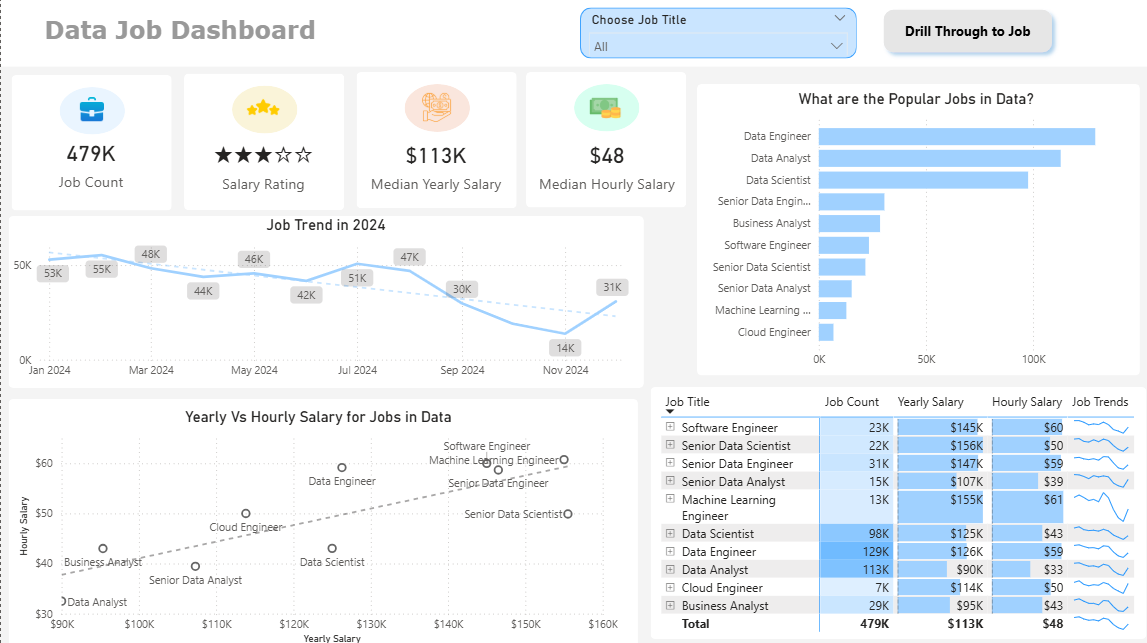

The page's visual inventory and layout, read from the dashboard file:
{"tool":"powerbi","page":{"name":"main dashboard","canvas":[1280,720],"ordinal":0},"visuals":[{"type":"shape","box":[0,0,1281,74.2],"z":0},{"type":"group","id":"g1","title":"Group 4","box":[393.8,80.4,178.1,151.5],"z":0,"group":"g8"},{"type":"shape","box":[202.9,82,178.1,152],"z":0,"group":"g6"},{"type":"group","id":"g2","title":"Group 1","box":[12.1,83.6,178.1,150.6],"z":0,"group":"g7"},{"type":"shape","box":[642.8,8.1,307.7,56.7],"z":1000},{"type":"shape","box":[256.4,94.7,72.9,53.5],"z":1000,"group":"g6"},{"type":"shape","box":[12.1,83.6,178.1,150.6],"z":2000,"group":"g2"},{"type":"card","fields":{"Values":["job_postings_flat.salary_star_rating"]},"box":[195.1,130.1,192.7,104.1],"z":2000,"group":"g6"},{"type":"group","id":"g3","title":"Group 4","box":[722.3,430,551.2,280.1],"z":2000},{"type":"shape","box":[583.7,80.4,178.1,150.6],"z":3000,"group":"g9"},{"type":"image","box":[256.6,94.9,69.6,47.8],"z":3000,"group":"g6"},{"type":"card","fields":{"Values":["CountNonNull(job_postings_flat.job_title_short)"]},"box":[4,128.2,192.7,103.2],"z":3000,"group":"g7"},{"type":"card","fields":{"Values":["Median(job_postings_flat.salary_year_avg)"]},"box":[386.2,130.4,192.7,103.8],"z":3000,"group":"g8"},{"type":"group","id":"g4","title":"Group 4","box":[7.6,443.1,699.5,276.9],"z":3000},{"type":"shape","box":[637.1,92.9,72.9,53],"z":4000,"group":"g9"},{"type":"group","id":"g5","title":"Group 4","box":[774,93.3,492.2,323.8],"z":4000},{"type":"image","box":[73.6,101.7,55.1,39],"z":4000,"group":"g2"},{"type":"textbox","box":[43.7,11.3,380.5,50.2],"z":5000},{"type":"shape","box":[65.5,96.1,72.9,53],"z":5000,"group":"g2"},{"type":"card","fields":{"Values":["Median(job_postings_flat.salary_hour_avg)"]},"box":[577.2,131,192.7,103.2],"z":5000,"group":"g9"},{"type":"shape","box":[393.8,80.4,178.1,151.5],"z":6000,"group":"g1"},{"type":"group","id":"g6","title":"Group 2","box":[195.1,82,192.7,152.2],"z":6000},{"type":"shape","box":[774,93.3,492.2,323.8],"z":6000,"group":"g5"},{"type":"shape","box":[8.1,239.6,706,191.1],"z":6000,"group":"g10"},{"type":"shape","box":[722.3,430,551.2,280.1],"z":6000,"group":"g3"},{"type":"shape","box":[7.6,443.1,699.5,276.9],"z":6000,"group":"g4"},{"type":"group","id":"g7","title":"Group 3","box":[4,83.6,192.7,150.6],"z":7000},{"type":"shape","box":[447.2,93,72.9,53.3],"z":7000,"group":"g1"},{"type":"group","id":"g8","title":"Group 5","box":[386.2,80.4,192.7,153.8],"z":8000},{"type":"group","id":"g9","title":"Group 6","box":[577.2,80.4,192.7,153.8],"z":9000},{"type":"image","box":[637.1,97.6,69.6,46],"z":9000,"group":"g9"},{"type":"clusteredBarChart","title":"What are the Popular Jobs in Data?","fields":{"Category":["job_postings_flat.job_title_short"],"Y":["CountNonNull(job_postings_flat.job_title_short)"]},"box":[774,99.7,487.4,317.4],"z":10000},{"type":"image","box":[459.1,96.7,48.6,44.9],"z":10004,"group":"g1"},{"type":"scatterChart","title":"Yearly Vs Hourly Salary for Jobs in Data","fields":{"Y":["Median(job_postings_flat.salary_hour_avg)"],"X":["Median(job_postings_flat.salary_year_avg)"],"Series":["job_postings_flat.job_title_short"]},"box":[15.7,452.8,675.2,267.2],"z":11000},{"type":"group","id":"g10","title":"Group 4","box":[8.1,239.6,706,191.1],"z":12000},{"type":"lineChart","title":"Job Trend in 2024","fields":{"Category":["job_postings_flat.job_posted_date.Variation.Date Hierarchy.Year","job_postings_flat.job_posted_date.Variation.Date Hierarchy.Quarter","job_postings_flat.job_posted_date.Variation.Date Hierarchy.Month","job_postings_flat.job_posted_date.Variation.Date Hierarchy.Day"],"Y":["CountNonNull(job_postings_flat.job_type_skills)"]},"box":[7.6,240.8,705.6,189.3],"z":13000},{"type":"pivotTable","fields":{"Values":["CountNonNull(job_postings_flat.job_title)","Median(job_postings_flat.salary_year_avg)","Median(job_postings_flat.salary_hour_avg)","SparklineData(CountNonNull(job_postings_flat.job_title_short)_[job_postings_flat.job_posted_date.Variation.Date Hierarch"],"Rows":["job_postings_flat.job_title_short","job_postings_flat.job_posted_date.Variation.Date Hierarchy.Quarter"]},"box":[728.3,430,545.1,286.2],"z":14000},{"type":"slicer","fields":{"Values":["job_postings_flat.job_title_short"]},"box":[642.8,8.1,307.7,53.4],"z":15000},{"type":"actionButton","title":"Drill Through To Job","box":[972.3,1.5,205.2,65.5],"z":16501}]}

Visuals, with their boxes in screenshot pixels (x1, y1, x2, y2), scaled from the page's 1280x720 canvas onto the 1147x643 screenshot:
shape: (left=0, top=0, right=1146, bottom=66)
"Group 4" group: (left=353, top=72, right=512, bottom=207)
shape: (left=182, top=73, right=341, bottom=209)
"Group 1" group: (left=11, top=75, right=170, bottom=209)
shape: (left=576, top=7, right=852, bottom=58)
shape: (left=230, top=85, right=295, bottom=132)
shape: (left=11, top=75, right=170, bottom=209)
card - job_postings_flat.salary_star_rating: (left=175, top=116, right=348, bottom=209)
"Group 4" group: (left=647, top=384, right=1141, bottom=634)
shape: (left=523, top=72, right=683, bottom=206)
image: (left=230, top=85, right=292, bottom=127)
card - CountNonNull(job_postings_flat.job_title_short): (left=4, top=114, right=176, bottom=207)
card - Median(job_postings_flat.salary_year_avg): (left=346, top=116, right=519, bottom=209)
"Group 4" group: (left=7, top=396, right=634, bottom=642)
shape: (left=571, top=83, right=636, bottom=130)
"Group 4" group: (left=694, top=83, right=1135, bottom=372)
image: (left=66, top=91, right=115, bottom=126)
textbox: (left=39, top=10, right=380, bottom=55)
shape: (left=59, top=86, right=124, bottom=133)
card - Median(job_postings_flat.salary_hour_avg): (left=517, top=117, right=690, bottom=209)
shape: (left=353, top=72, right=512, bottom=207)
"Group 2" group: (left=175, top=73, right=348, bottom=209)
shape: (left=694, top=83, right=1135, bottom=372)
shape: (left=7, top=214, right=640, bottom=385)
shape: (left=647, top=384, right=1141, bottom=634)
shape: (left=7, top=396, right=634, bottom=642)
"Group 3" group: (left=4, top=75, right=176, bottom=209)
shape: (left=401, top=83, right=466, bottom=131)
"Group 5" group: (left=346, top=72, right=519, bottom=209)
"Group 6" group: (left=517, top=72, right=690, bottom=209)
image: (left=571, top=87, right=633, bottom=128)
"What are the Popular Jobs in Data?" clusteredBarChart: (left=694, top=89, right=1130, bottom=372)
image: (left=411, top=86, right=455, bottom=126)
"Yearly Vs Hourly Salary for Jobs in Data" scatterChart: (left=14, top=404, right=619, bottom=642)
"Group 4" group: (left=7, top=214, right=640, bottom=385)
"Job Trend in 2024" lineChart: (left=7, top=215, right=639, bottom=384)
pivotTable - CountNonNull(job_postings_flat.job_title) x Median(job_postings_flat.salary_year_avg): (left=653, top=384, right=1141, bottom=640)
slicer - job_postings_flat.job_title_short: (left=576, top=7, right=852, bottom=55)
"Drill Through To Job" actionButton: (left=871, top=1, right=1055, bottom=60)
